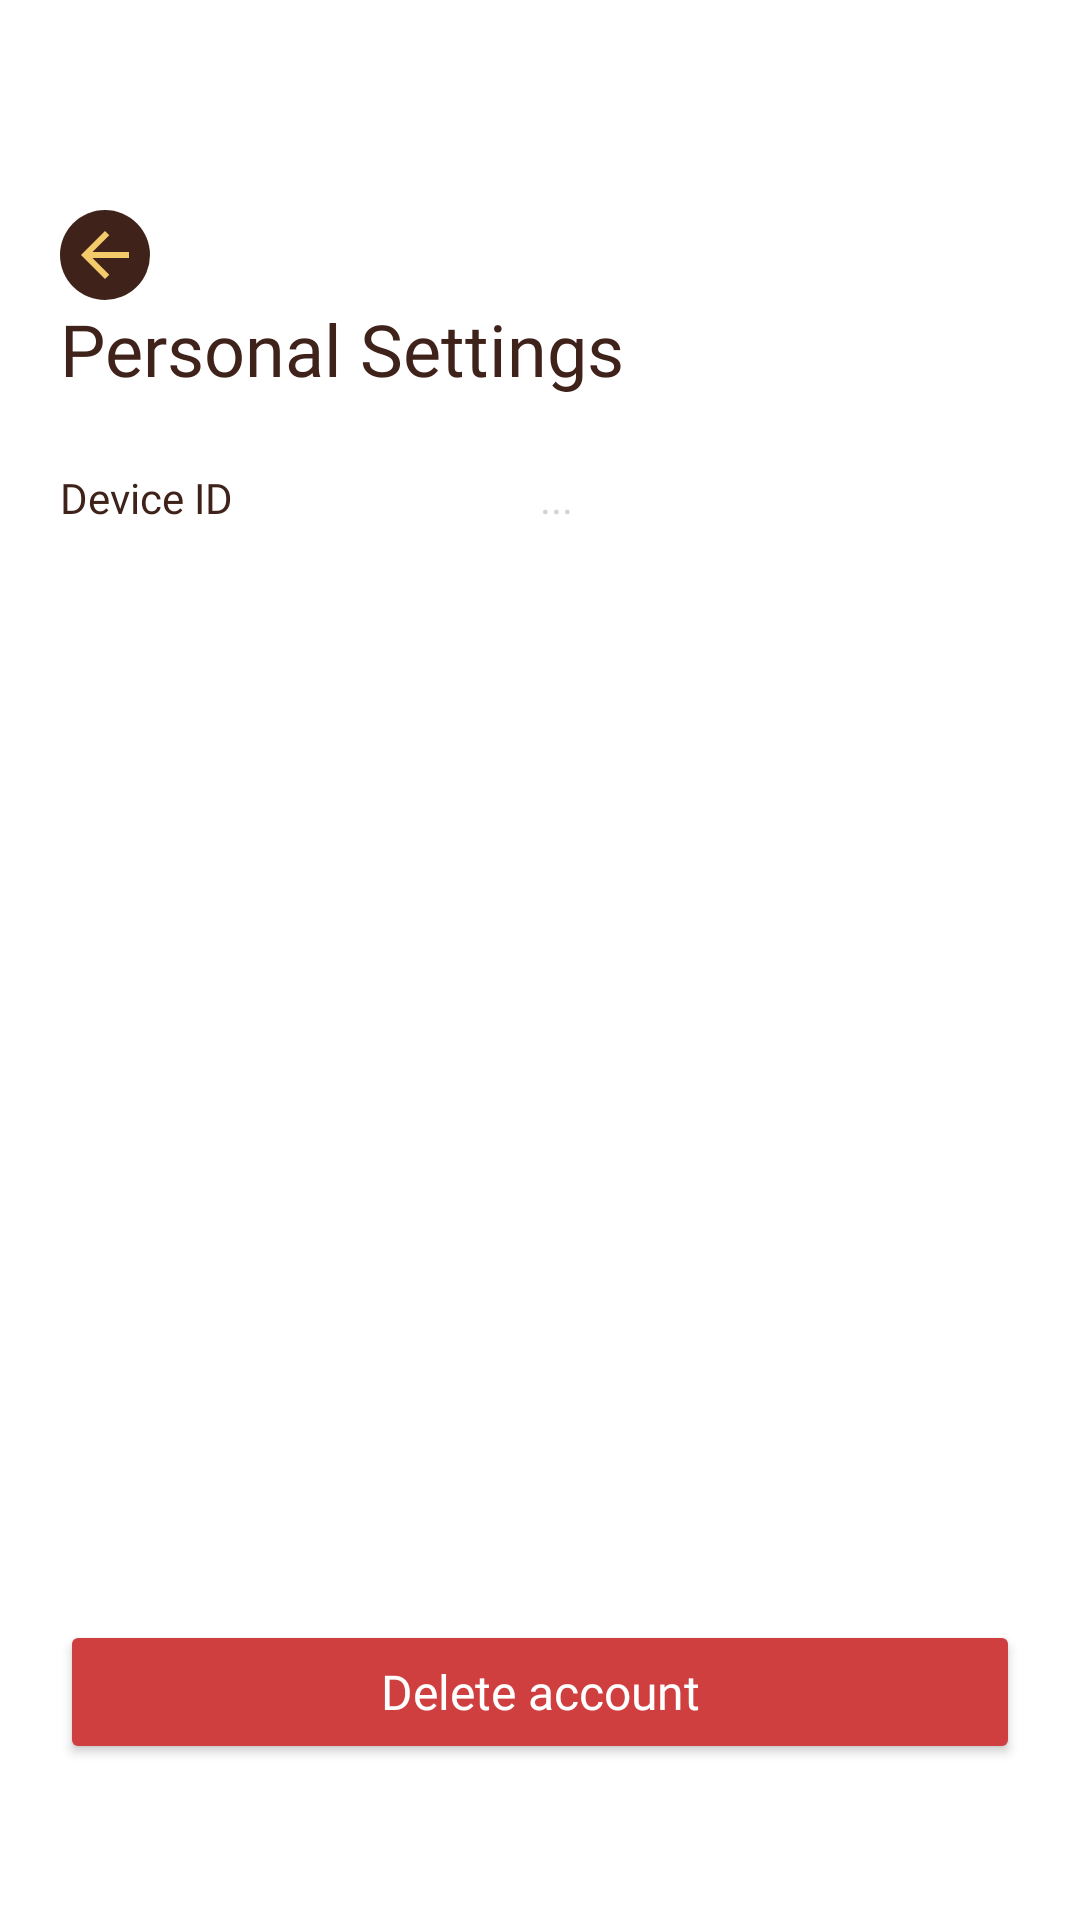

Icon click points for this 1080 x 1920 phone screenshot, format point (x, y):
arrow back: point (105, 255)
